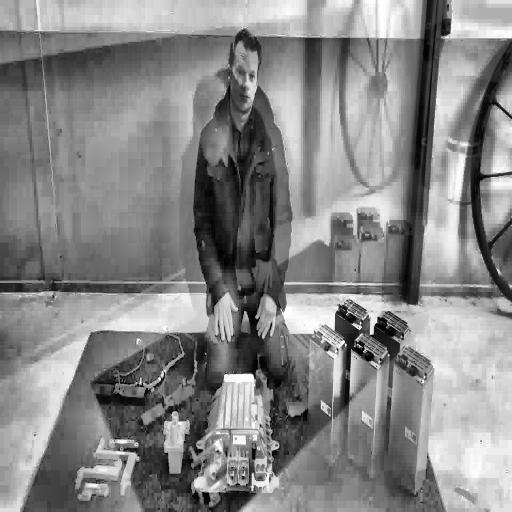battery_module: (388, 344, 436, 495), (349, 332, 390, 477), (307, 323, 347, 462), (372, 308, 413, 345), (336, 299, 371, 328)
bms_unit: (197, 378, 281, 500)
busbar: (74, 434, 140, 501)
connector: (163, 409, 190, 472)
high_volt_cable: (109, 321, 188, 397)
